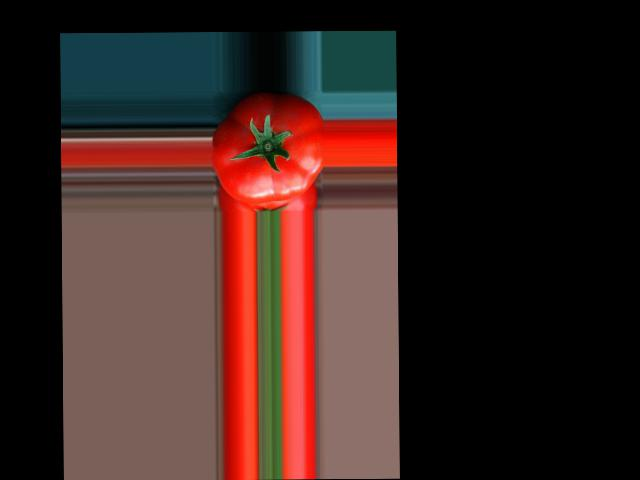tomato: (210, 92, 323, 204)
